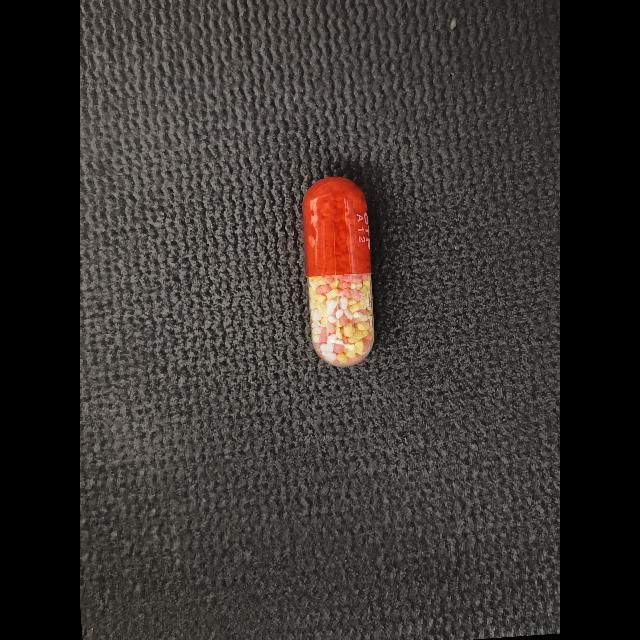Intact Capsule: (303, 177, 374, 367)
